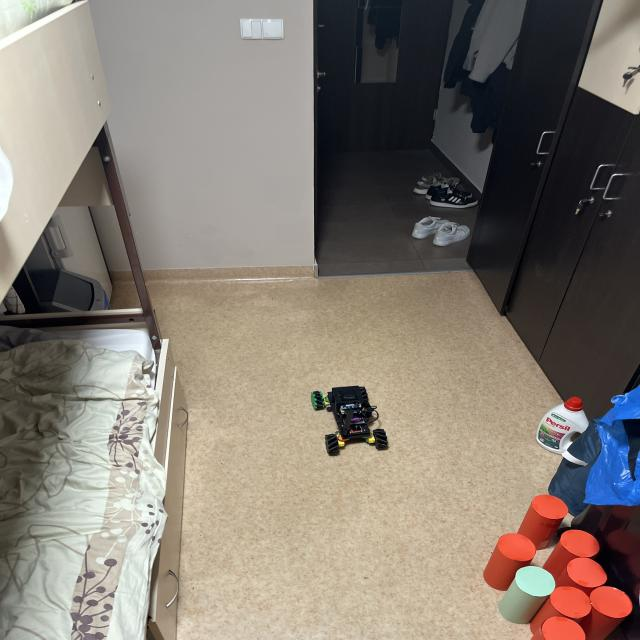robot: (311, 386, 388, 456)
